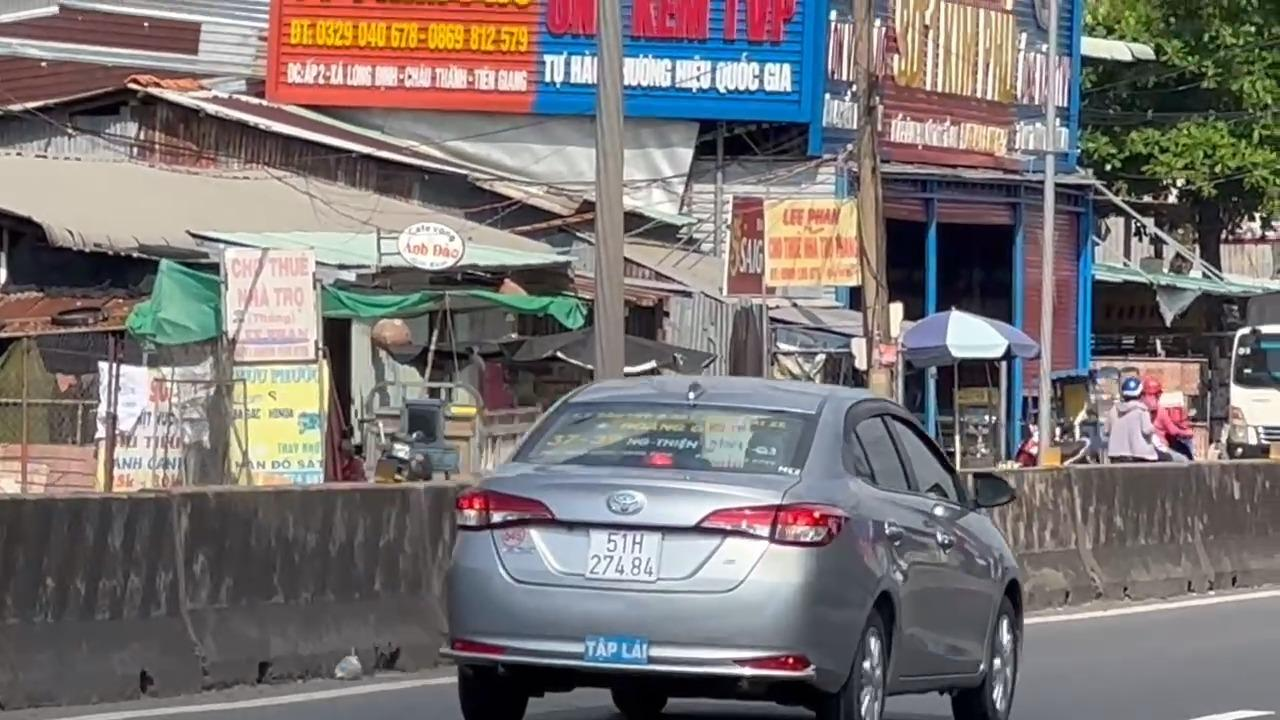bien_so: (584, 527, 662, 583)
